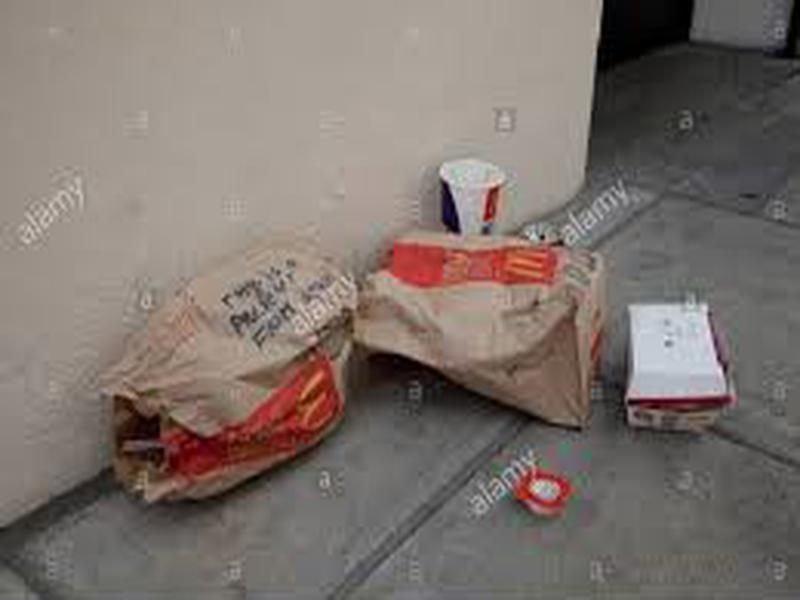cardboard: (618, 292, 747, 438)
cup: (426, 158, 513, 237)
paper: (89, 236, 358, 508), (354, 224, 612, 435)
